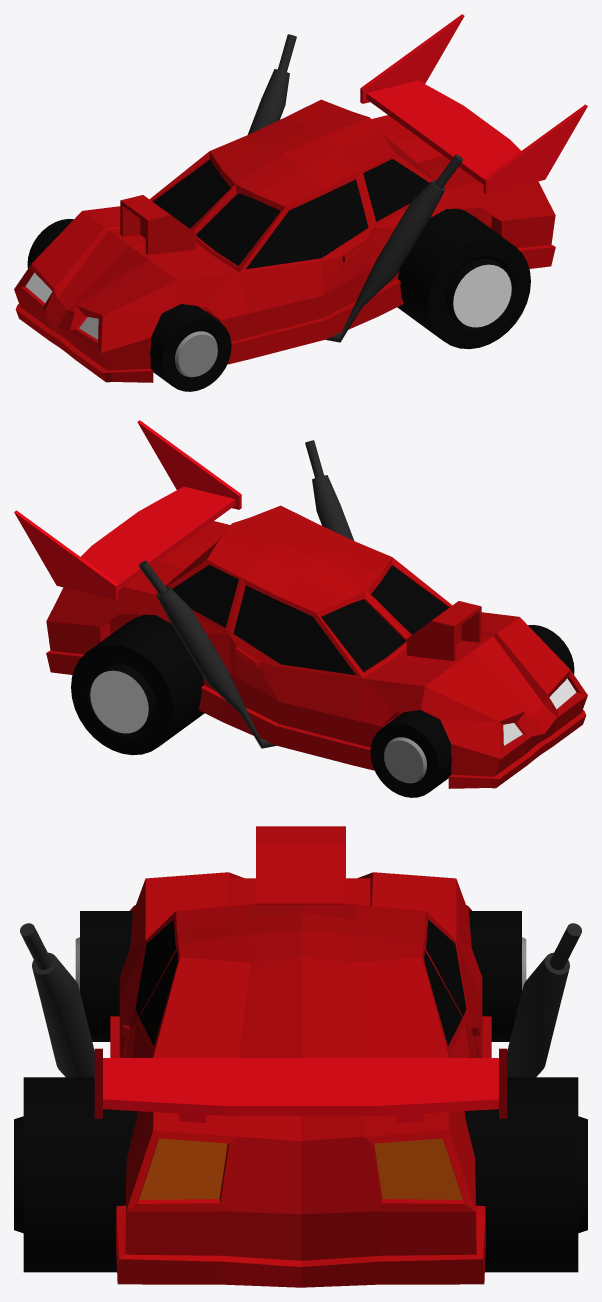
The model's file is Car final.fbx.
3 views of the same model, one above another, from view 1: azimuth 30°, elevation 25°; view 2: azimuth 150°, elevation 25°; view 3: azimuth 270°, elevation 25° (orthographic). The views are drawn at different scales.
Parts seen in each view (by area): view 1: Cube; view 2: Cube; view 3: Cube.
Boxes of the visible parts, box(x1,y1,x2,y2) form: Cube: box(14, 14, 587, 391); Cube: box(14, 420, 587, 797); Cube: box(14, 826, 587, 1287).
Size of the model in its own units: 722 by 290 by 468.
